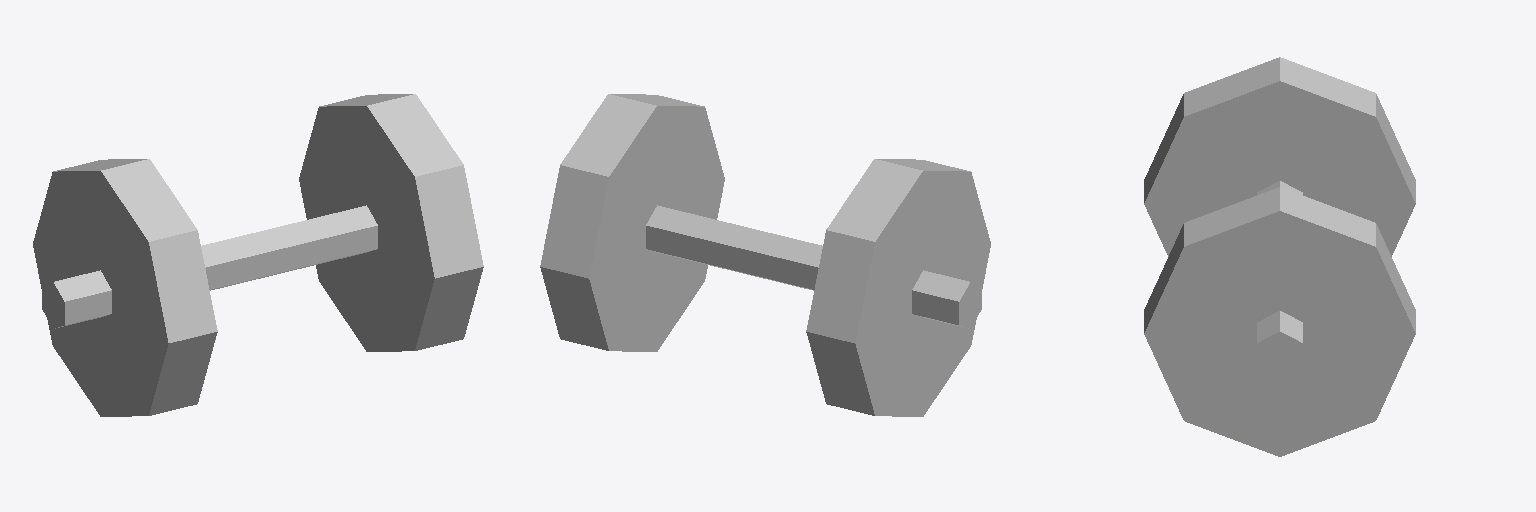
Rendered from dumbbell_001.obj.
3 renders of one model, left to right at view 1: azimuth 30°, elevation 25°; view 2: azimuth 150°, elevation 25°; view 3: azimuth 270°, elevation 25°, orthographic.
Visible parts, largest first — view 1: dumbbell_001; view 2: dumbbell_001; view 3: dumbbell_001.
Part boxes in pixels (bbox=[...]): dumbbell_001: bbox=[33, 94, 483, 416]; dumbbell_001: bbox=[540, 94, 990, 416]; dumbbell_001: bbox=[1144, 57, 1415, 456].
Size of the model in its own units: 0.3991 by 0.2318 by 0.2318.